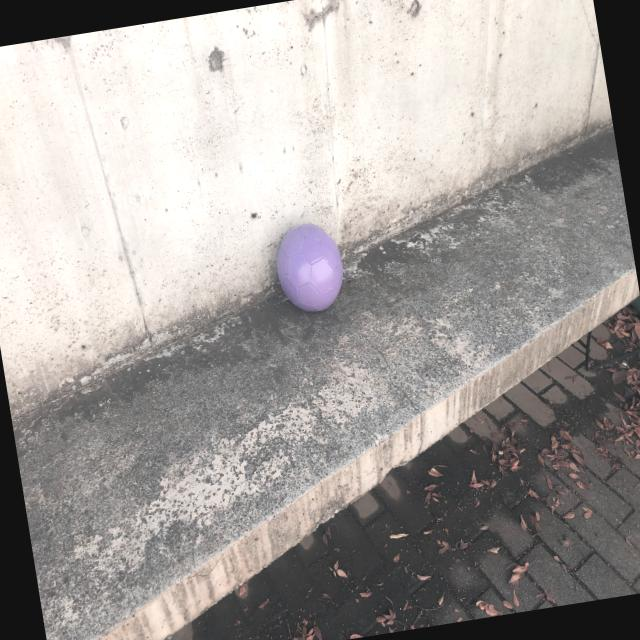purple_ball: (271, 220, 349, 315)
